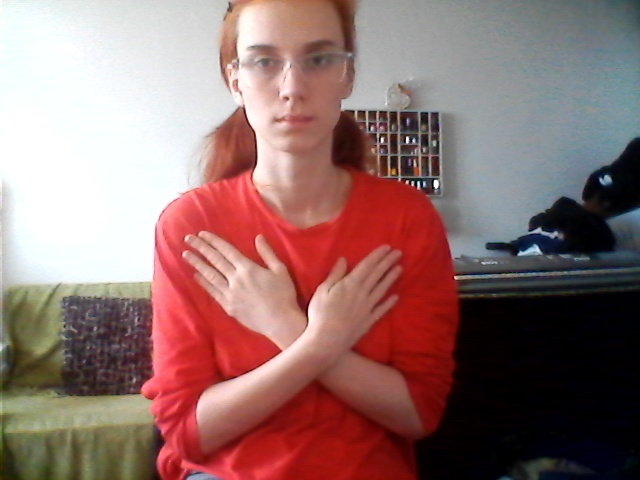z: (168, 230, 439, 444)
